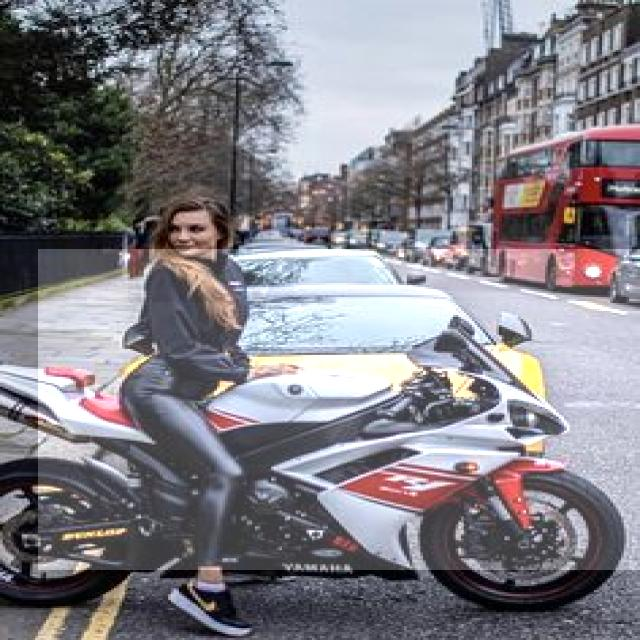Bike: (38, 249, 640, 570)
No_Helmet: (128, 180, 294, 302)
